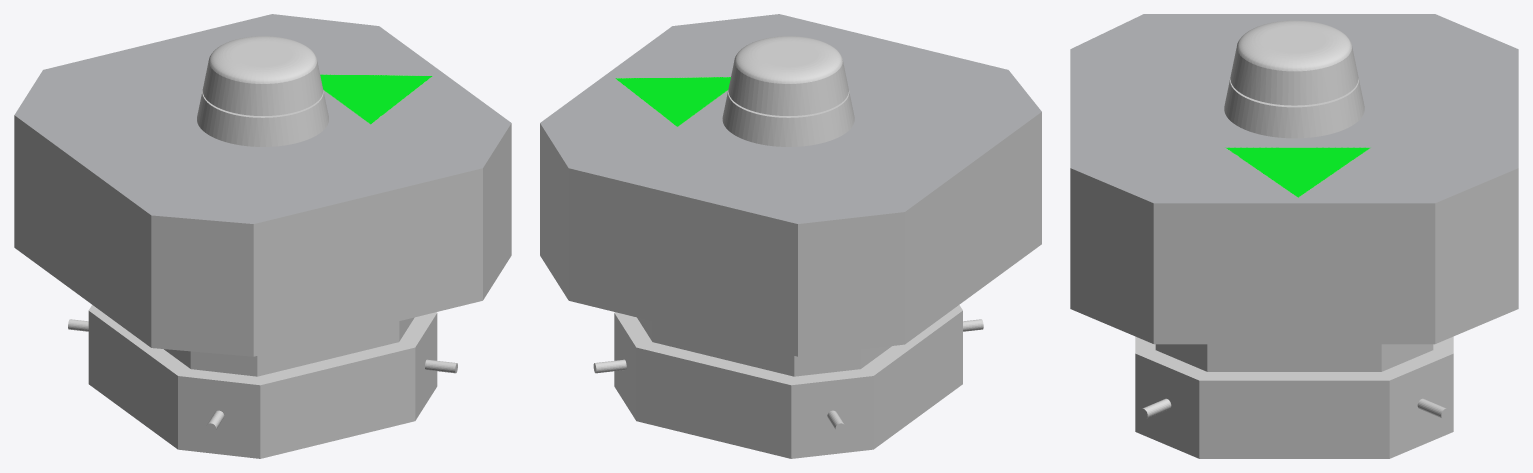
3 renders of one model, left to right at view 1: azimuth 30°, elevation 25°; view 2: azimuth 150°, elevation 25°; view 3: azimuth 270°, elevation 25°, orthographic. The views are drawn at different scales.
Visible parts, largest first — view 1: Base; view 2: Base; view 3: Base.
Boxes of the visible parts, x1,y1,x2,y2 form: Base: (14,14,511,458); Base: (540,14,1041,458); Base: (1070,14,1518,458).
Size of the model in its own units: 0.242 by 0.242 by 0.2097.
2 materials, 1 textured.
